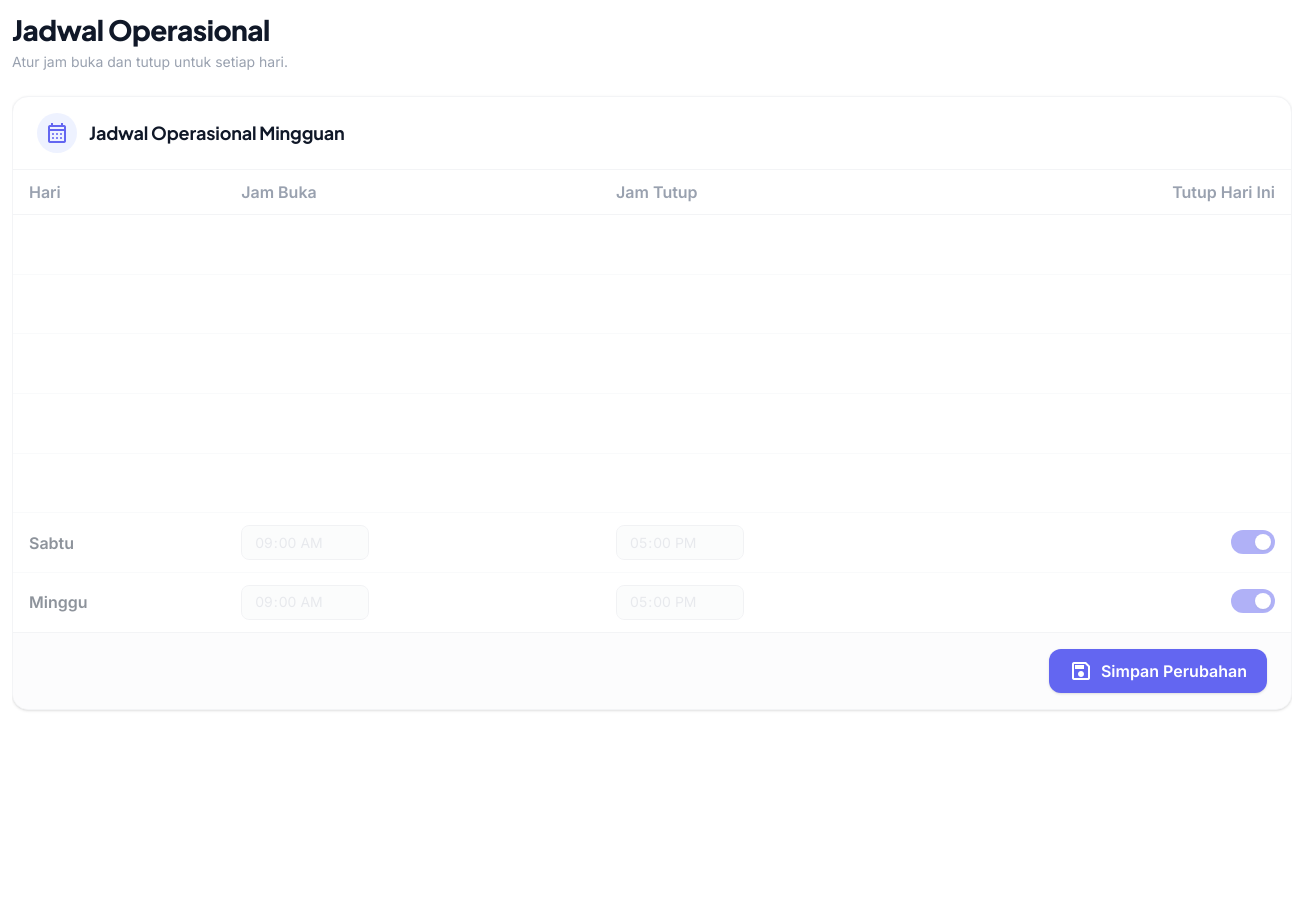
Scenario: ScheduleManager › validasi jam tutup harus lebih dari jam buka
Click the button "Simpan Perubahan" at (1158, 671), box [1049,649,1267,693]
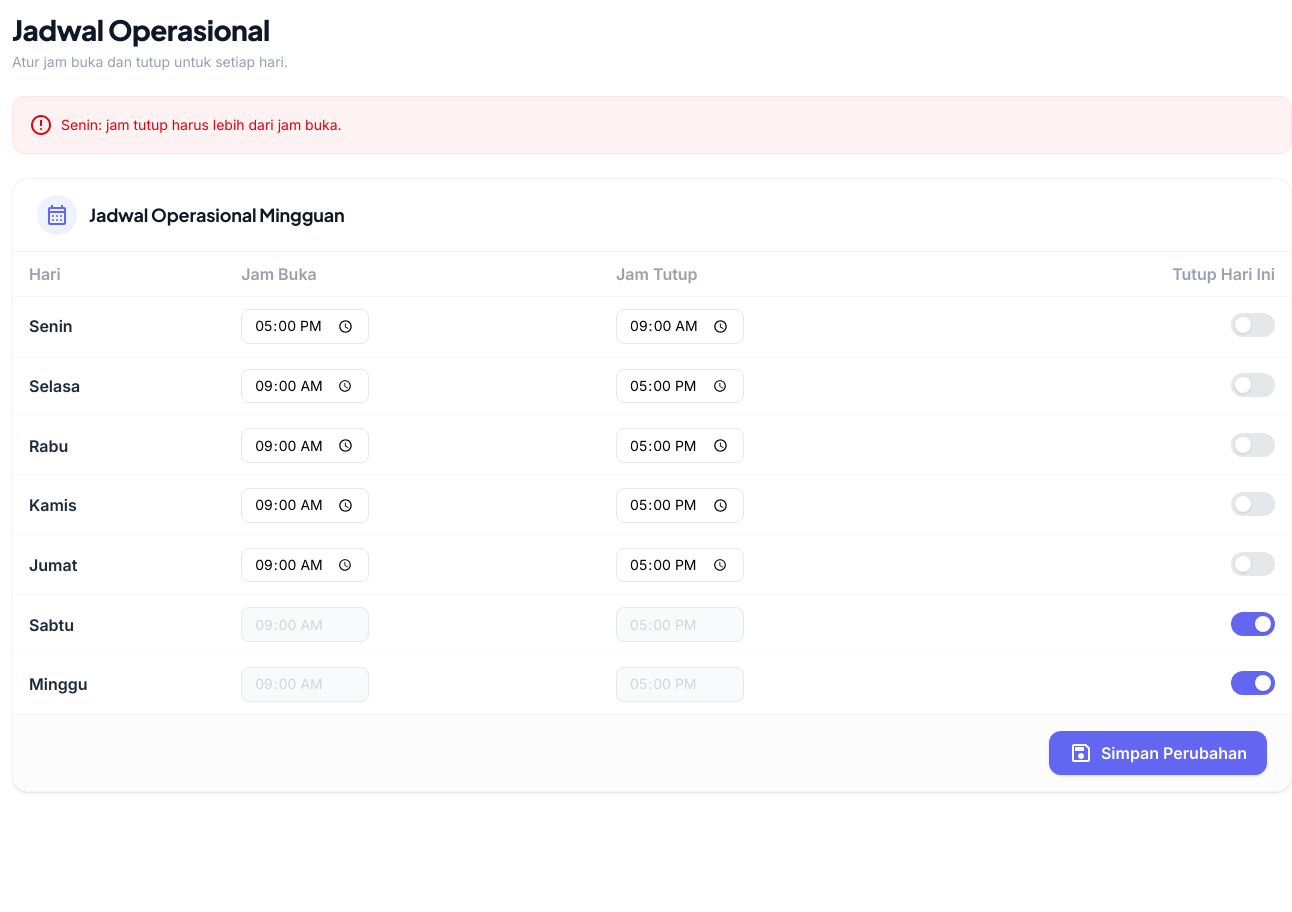
Result: the text "Senin: jam tutup harus lebih dari jam buka." is shown at [61,115,342,135]
